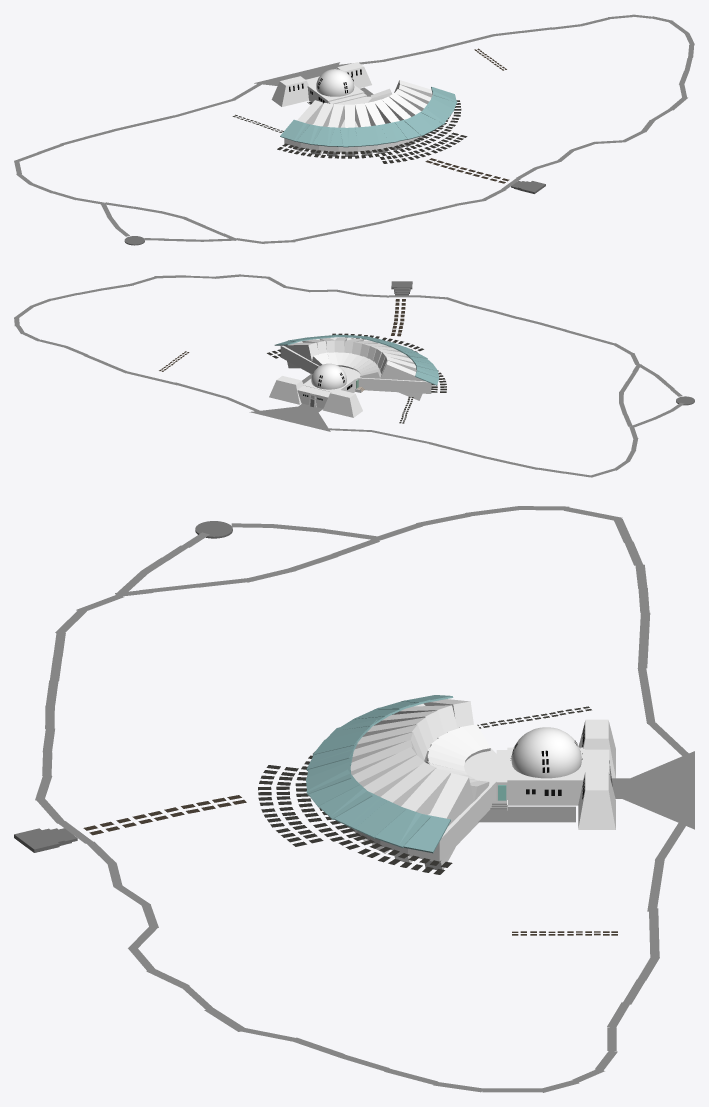
Rendered from asmundarsafn_nyasta_utgafa_8.4_12.53.obj.
3 renders of one model, top to bottom at view 1: azimuth 30°, elevation 25°; view 2: azimuth 150°, elevation 25°; view 3: azimuth 270°, elevation 25°, orthographic. The views are drawn at different scales.
Parts seen in each view (by area): view 1: Plane.001, der_yfir_thaki, thak, gangstett_i_kringum_hring, syningarsalur, Sphere, h_hlid, v_hlid, innanhus; view 2: Plane.001, thak, syningarsalur, der_yfir_thaki, h_hlid, Sphere, v_hlid, adaldyr, gangstett_i_kringum_hring; view 3: Plane.001, thak, der_yfir_thaki, gangstett_i_kringum_hring, syningarsalur, Sphere, innanhus, v_hlid, h_hlid, gangstett_ad_vatnsbera.
Part boxes in pixels (<box>): Plane.001: <box>14,14,694,245</box>; der_yfir_thaki: <box>280,86,457,147</box>; thak: <box>293,80,432,156</box>; gangstett_i_kringum_hring: <box>277,100,467,163</box>; syningarsalur: <box>284,96,428,152</box>; Sphere: <box>316,69,354,96</box>; h_hlid: <box>271,76,308,106</box>; v_hlid: <box>336,62,371,88</box>; innanhus: <box>307,83,364,103</box>; Plane.001: <box>14,274,694,477</box>; thak: <box>284,337,424,400</box>; syningarsalur: <box>280,337,431,393</box>; der_yfir_thaki: <box>274,334,439,385</box>; h_hlid: <box>323,389,362,417</box>; Sphere: <box>311,363,346,389</box>; v_hlid: <box>269,376,303,404</box>; adaldyr: <box>297,385,330,408</box>; gangstett_i_kringum_hring: <box>267,333,446,392</box>; Plane.001: <box>14,506,694,1092</box>; thak: <box>350,699,490,869</box>; der_yfir_thaki: <box>306,695,453,853</box>; gangstett_i_kringum_hring: <box>258,752,452,874</box>; syningarsalur: <box>349,703,496,862</box>; Sphere: <box>511,727,581,778</box>; innanhus: <box>507,747,584,805</box>; v_hlid: <box>578,771,615,829</box>; h_hlid: <box>578,719,615,778</box>; gangstett_ad_vatnsbera: <box>83,795,246,835</box>.
Bounding box in the file's own units: 148 × 8.94 × 72.34.
